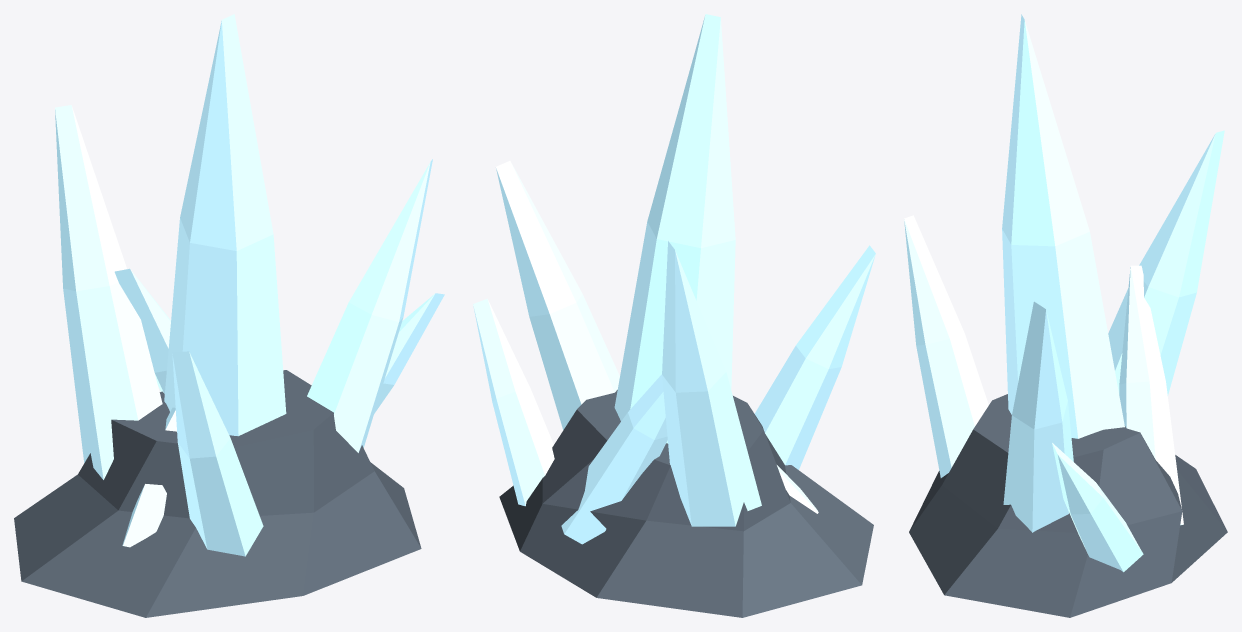
File: PROP_19_IceCrystalFormation.fbx
The picture shows the model from 3 angles, left to right: view 1: azimuth 30°, elevation 25°; view 2: azimuth 150°, elevation 25°; view 3: azimuth 270°, elevation 25°; orthographic projection. The views are drawn at different scales.
Visible parts, largest first — view 1: PROP_19_IceCrystalFormation; view 2: PROP_19_IceCrystalFormation; view 3: PROP_19_IceCrystalFormation.
Boxes of the visible parts, x1=… form: PROP_19_IceCrystalFormation: x1=14, y1=14, x2=444, y2=617; PROP_19_IceCrystalFormation: x1=473, y1=14, x2=875, y2=617; PROP_19_IceCrystalFormation: x1=904, y1=14, x2=1227, y2=617.
Size of the model in its own units: 226 by 279 by 161.
